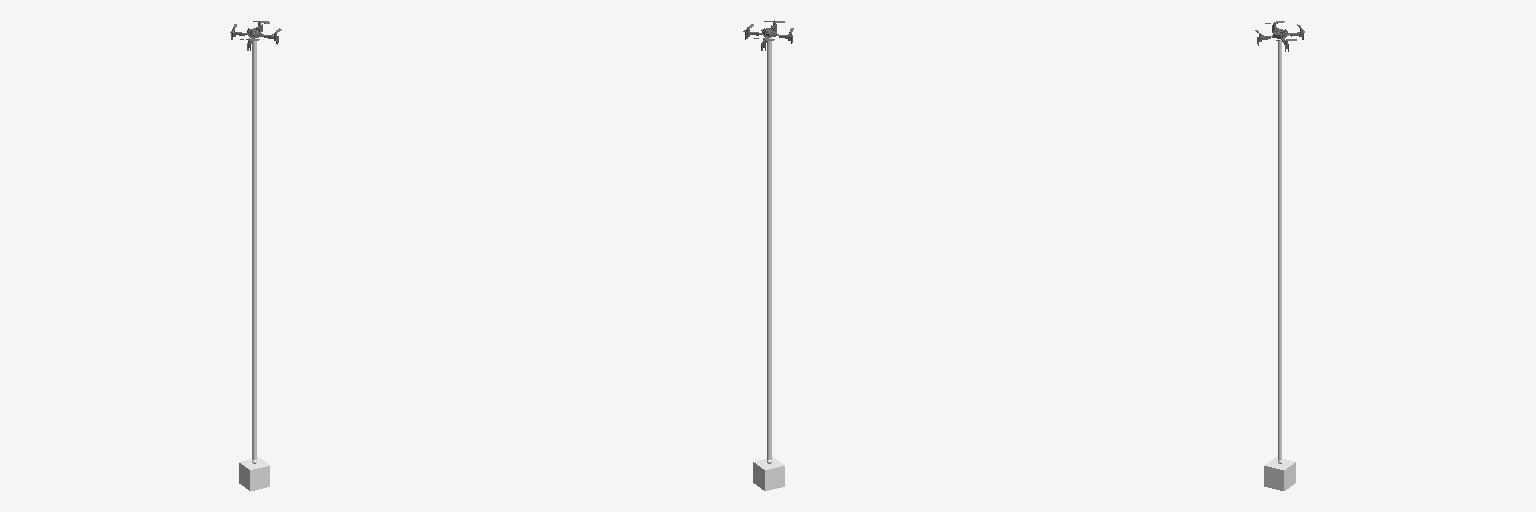
The robot description file, URDF, robot "cf2":
<?xml version="1.0" ?>

<robot name="cf2">

  <properties arm="0.0397" kf="3.16e-10" km="7.94e-12" thrust2weight="2.25" max_speed_kmh="30" gnd_eff_coeff="11.36859" prop_radius="2.31348e-2" drag_coeff_xy="9.1785e-7" drag_coeff_z="10.311e-7" dw_coeff_1="2267.18" dw_coeff_2=".16" dw_coeff_3="-.11" />

  <link name="base_link"> 

    <inertial>
      <origin rpy="0 0 0" xyz="0 0 0"/>
      <mass value="0.027"/>
      <inertia ixx="1.4e-5" ixy="0.0" ixz="0.0" iyy="1.4e-5" iyz="0.0" izz="2.17e-5"/>
    </inertial>

    <!-- links>
      <carlos url="https://arxiv.org/pdf/1608.05786.pdf" />
      <julian url="https://www.research-collection.ethz.ch/handle/20.500.11850/214143" />
      <mit url="http://groups.csail.mit.edu/robotics-center/public_papers/Landry15.pdf" />
    </links -->

    <visual>
      <origin rpy="0 0 55" xyz="0 0 0"/>
      <geometry>
        <mesh filename="./cf2.dae" scale=" 1 1 1"/>
      </geometry> 
      <material name="grey">
        <color rgba=".5 .5 .5 1"/>
      </material> 
    </visual>

    <collision>
      <origin rpy="0 0 0" xyz="0 0 0"/>
      <geometry>
        <cylinder radius=".06" length=".025"/>
      </geometry>
    </collision>  

  </link>

  <link name="prop0_link">
    <inertial>
      <origin rpy="0 0 0" xyz="0.028 -0.028 0"/>
      <mass value="0"/>
      <inertia ixx="1" ixy="0" ixz="0" iyy="1" iyz="0" izz="0"/>
    </inertial>
  </link>
  <joint name="prop0_joint" type="fixed">
    <parent link="base_link"/>
    <child link="prop0_link"/>
  </joint>

  <link name="prop1_link">
    <inertial>
      <origin rpy="0 0 0" xyz="-0.028 -0.028 0"/>
      <mass value="0"/>
      <inertia ixx="0" ixy="0" ixz="0" iyy="0" iyz="0" izz="0"/>
    </inertial>
  </link>
  <joint name="prop1_joint" type="fixed">
    <parent link="base_link"/>
    <child link="prop1_link"/>
  </joint>

  <link name="prop2_link">
    <inertial>
      <origin rpy="0 0 0" xyz="-0.028 0.028 0"/>
      <mass value="0"/>
      <inertia ixx="0" ixy="0" ixz="0" iyy="0" iyz="0" izz="0"/>
    </inertial>
  </link>
  <joint name="prop2_joint" type="fixed">
    <parent link="base_link"/>
    <child link="prop2_link"/>
  </joint>

  <link name="prop3_link">
    <inertial>
      <origin rpy="0 0 0" xyz="0.028 0.028 0"/>
      <mass value="0"/>
      <inertia ixx="0" ixy="0" ixz="0" iyy="0" iyz="0" izz="0"/>
    </inertial>
  </link>
  <joint name="prop3_joint" type="fixed">
    <parent link="base_link"/>
    <child link="prop3_link"/>
  </joint>

  <link name="center_of_mass_link">
    <inertial>
      <origin rpy="0 0 0" xyz="0 0 0"/>
      <mass value="0"/>
      <inertia ixx="0" ixy="0" ixz="0" iyy="0" iyz="0" izz="0"/>
    </inertial>
  </link>
  <joint name="center_of_mass_joint" type="fixed">
    <parent link="base_link"/>
    <child link="center_of_mass_link"/>
  </joint>






  
<link name="tinysphere1">
    <inertial>
      <origin rpy="0 0 0" xyz="0 0 -0.005"/>
       <mass value="0"/>
       <inertia ixx="1" ixy="0" ixz="0" iyy="1" iyz="0" izz="1"/>
    </inertial>
    <visual>
      <origin rpy="0 0 0" xyz="0 0 0"/>
      <geometry>
				<sphere radius="0.005"/>
      </geometry>
       <material name="white">
        <color rgba="1 1 1 1"/>
      </material>
    </visual>
    <collision>
      <origin rpy="0 0 0" xyz="0 0 0"/>
      <geometry>
	 <sphere radius="0.005"/>
      </geometry>
    </collision>
  </link>

  <joint name="ballFakeXTop" type="continuous">
    <parent link="base_link"/>
    <child link="tinysphere1"/>
    <axis xyz="1 0 0"/>
    <origin xyz="0 0 0"/>
  </joint>

  <link name="cable_link">
    <inertial>
      <origin rpy="0 0 0" xyz="0 0 -0.510"/>
       <mass value="0"/>
       <inertia ixx="0" ixy="0" ixz="0" iyy="0" iyz="0" izz="0"/>
    </inertial>
    <visual>
      <origin rpy="0 0 0" xyz="0 0 -0.505"/>
      <geometry>
				<cylinder radius="0.005" length="1"/>
      </geometry>
       <material name="white">
        <color rgba="1 1 1 1"/>
      </material>
    </visual>
    <collision>
      <origin rpy="0 0 0" xyz="0 0 -0.510"/>
      <geometry>
	 	<cylinder radius="0.005" length="1"/>
      </geometry>
    </collision>
  </link>

  <joint name="ballFakeYTop" type="continuous">
    <parent link="tinysphere1"/>
    <child link="cable_link"/>
    <axis xyz="0 1 0"/>
    <origin xyz="0 0 0"/>
  </joint>

  <link name="tinysphere2">
    <inertial>
      <origin rpy="0 0 0" xyz="0 0 0"/>
       <mass value="0"/>
       <inertia ixx="1" ixy="0" ixz="0" iyy="1" iyz="0" izz="1"/>
    </inertial>
    <visual>
      <origin rpy="0 0 0" xyz="0 0 0"/>
      <geometry>
				<sphere radius="0.005"/>
      </geometry>
       <material name="white">
        <color rgba="1 1 1 1"/>
      </material>
    </visual>
    <collision>
      <origin rpy="0 0 0" xyz="0 0 0"/>
      <geometry>
	 <sphere radius="0.005"/>
      </geometry>
    </collision>
  </link>

  <joint name="ballFakeXBottom" type="continuous">
    <parent link="cable_link"/>
    <child link="tinysphere2"/>
    <axis xyz="0 1 0"/>
    <origin xyz="0 0 -1.010"/>
  </joint>

  <link name="payload_link">
    <inertial>
      <origin rpy="0 0 0" xyz="0 0 0"/>
       <mass value="0"/>  
       <inertia ixx="1" ixy="0" ixz="0" iyy="1" iyz="0" izz="1"/>
    </inertial>
    <visual>
      <origin rpy="0 0 0" xyz="0 0 0"/>
      <geometry>
				<box size=".05 .05 .05"/>
      </geometry>
       <material name="white">
        <color rgba="1 1 1 1"/>
      </material>
    </visual>
    <collision>
      <origin rpy="0 0 0" xyz="0 0 0"/>
      <geometry>
	 	<box size=".05 .05 .05"/>
      </geometry>
    </collision>
  </link>

  <joint name="ballFakeYBottom" type="continuous">
    <parent link="tinysphere2"/>
    <child link="payload_link"/>
    <axis xyz="1 0 0"/>
    <origin xyz="0 0 -0.030"/>
  </joint>

</robot>

--- Facts derived from the render (not from the file) ---
3 views of the same robot in one strip: view 1: azimuth 30°, elevation 25°; view 2: azimuth 210°, elevation 25°; view 3: azimuth 330°, elevation 25° (orthographic).
Robot: cf2 — 10 links, 9 joints (4 continuous, 5 fixed); root link base_link; default pose: all joints at 0.
Visible links, largest first — view 1: cable_link, payload_link; view 2: cable_link, payload_link; view 3: cable_link, payload_link.
Link boxes in pixels (x1,y1,x2,y2): cable_link: (252, 38, 256, 460); payload_link: (239, 457, 269, 490); cable_link: (767, 37, 771, 459); payload_link: (753, 457, 784, 490); cable_link: (1278, 39, 1281, 460); payload_link: (1264, 457, 1295, 490).
Size in the robot's own frame: 0.1058 by 0.0979 by 1.08 metres.
1 mesh visuals loaded from 1 distinct referenced files (1 Collada DAE).
